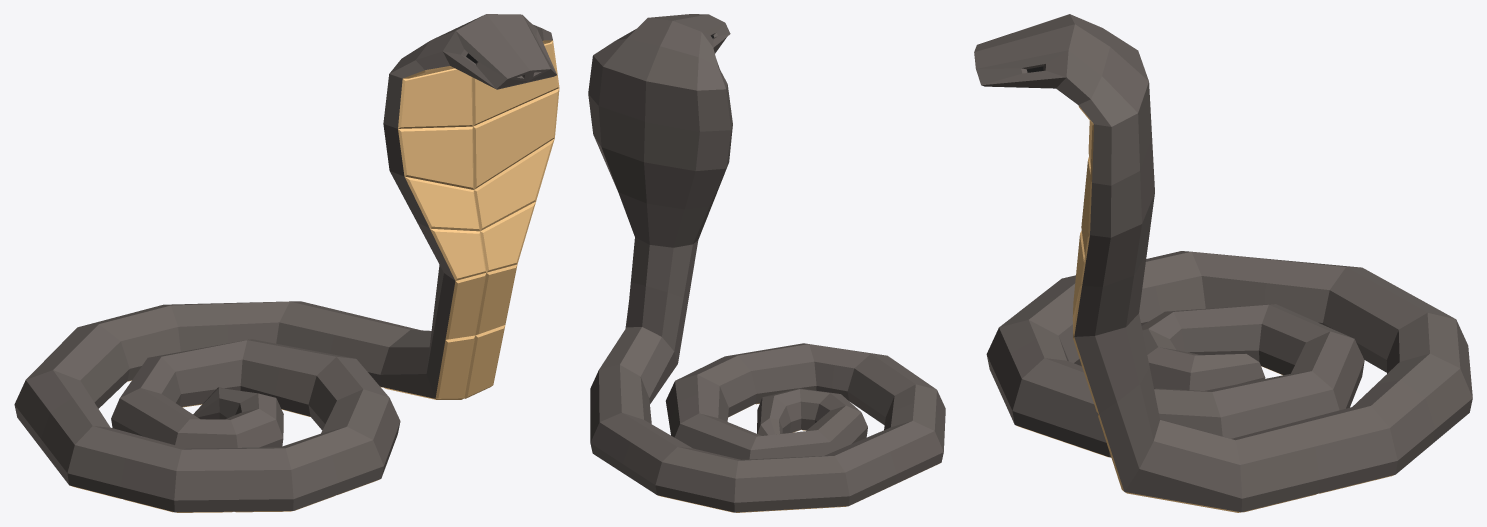
Rendered from naga.glb.
3 renders of one model, left to right at view 1: azimuth 30°, elevation 25°; view 2: azimuth 150°, elevation 25°; view 3: azimuth 270°, elevation 25°, orthographic. The views are drawn at different scales.
Visible parts, largest first — view 1: Snake_01_Circle.010; view 2: Snake_01_Circle.010; view 3: Snake_01_Circle.010.
Part boxes in pixels (box(x1,y1,x2,y2)): Snake_01_Circle.010: box(14, 14, 559, 512); Snake_01_Circle.010: box(588, 14, 945, 512); Snake_01_Circle.010: box(974, 14, 1472, 512).
Size of the model in its own units: 11.59 by 9.96 by 9.46.
